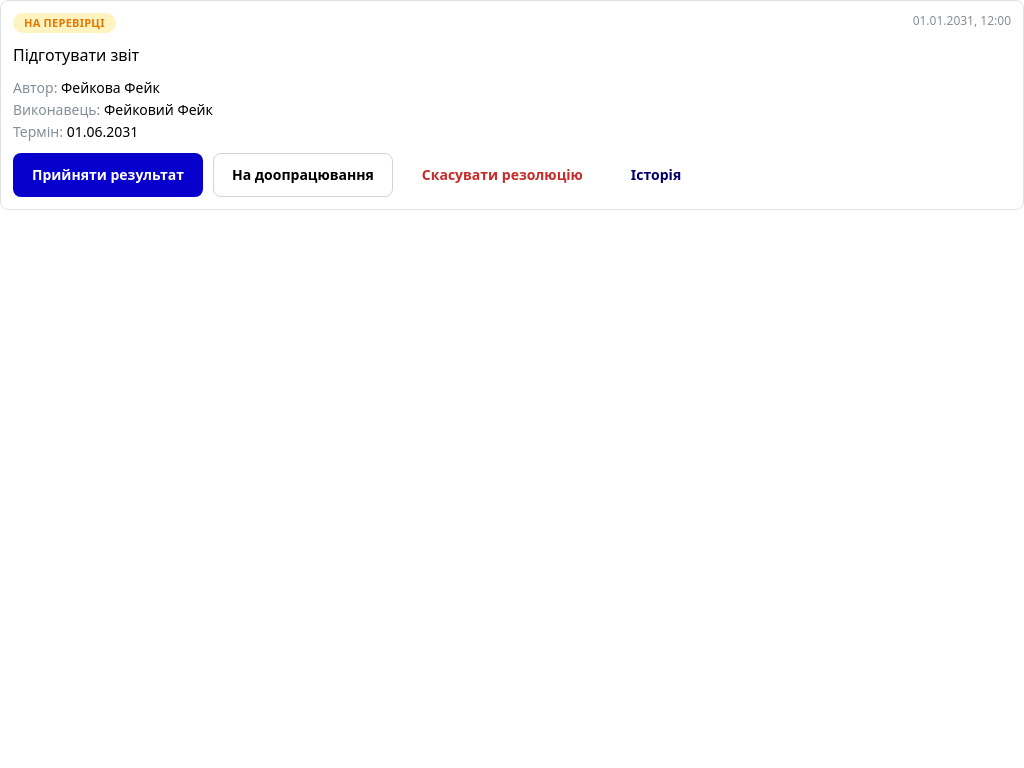
Test: ResolutionsPanel › surfaces a server rejection in the dialog
Step 1. Click the button "Скасувати резолюцію" → (502, 175), box [403, 153, 602, 197]
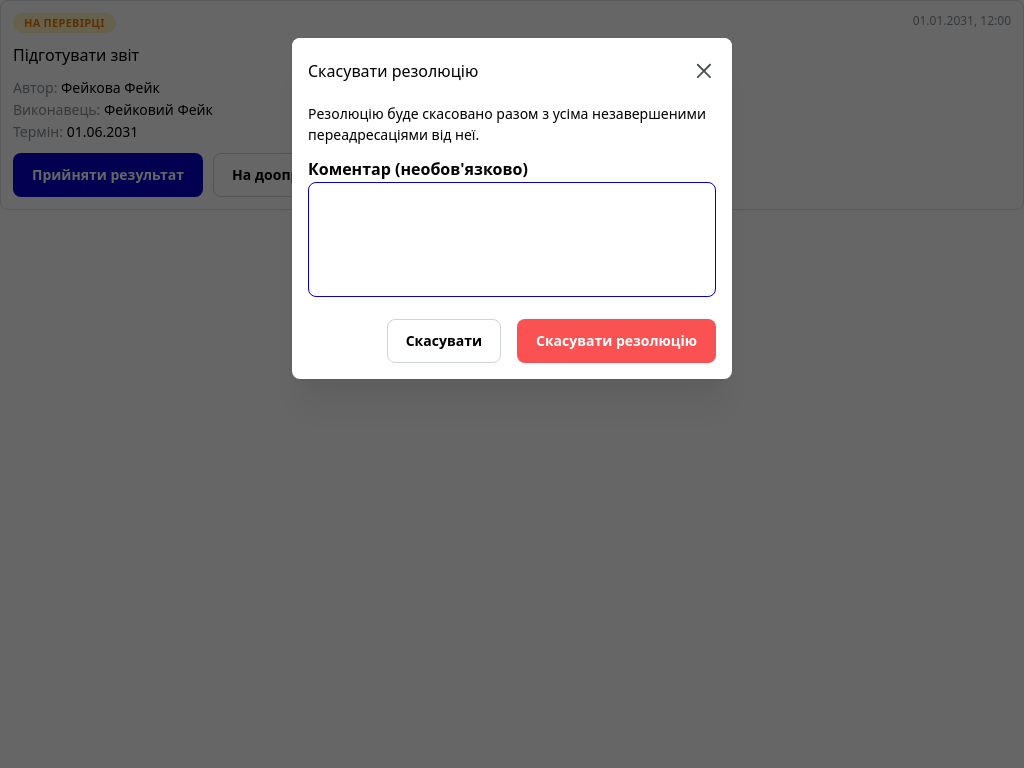
Step 2. Click the button "Скасувати резолюцію" → (616, 341), box [517, 319, 716, 363]
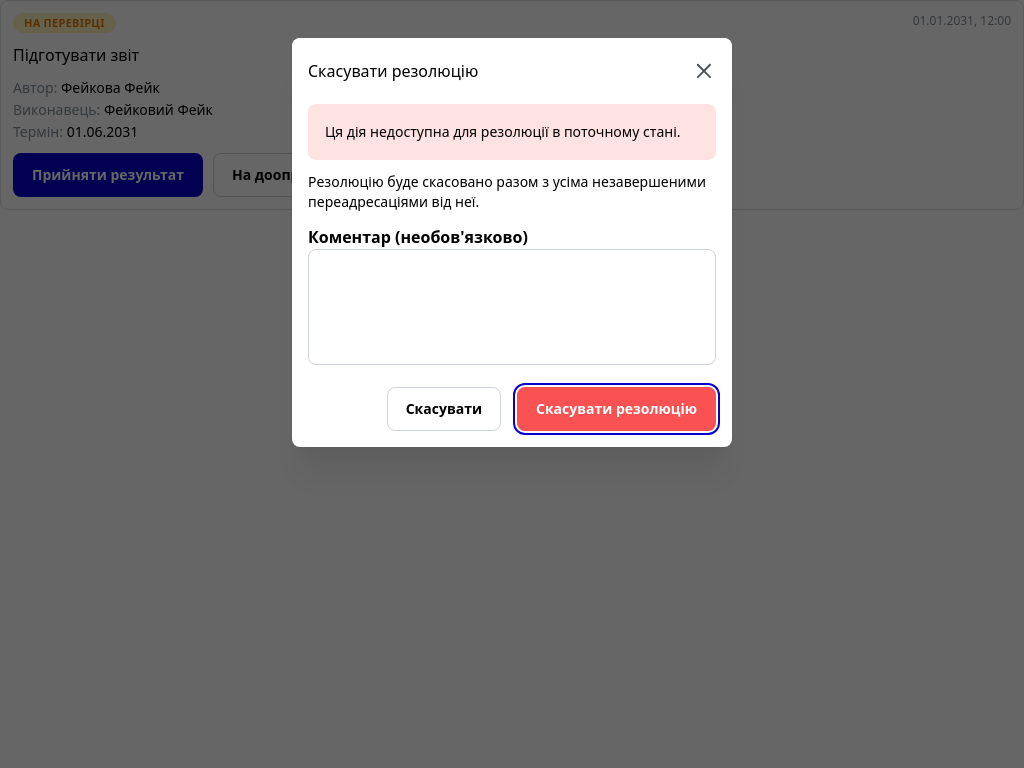
Expected: the text "Ця дія недоступна для резолюції в поточному стані." is shown, [325, 121, 699, 143]
